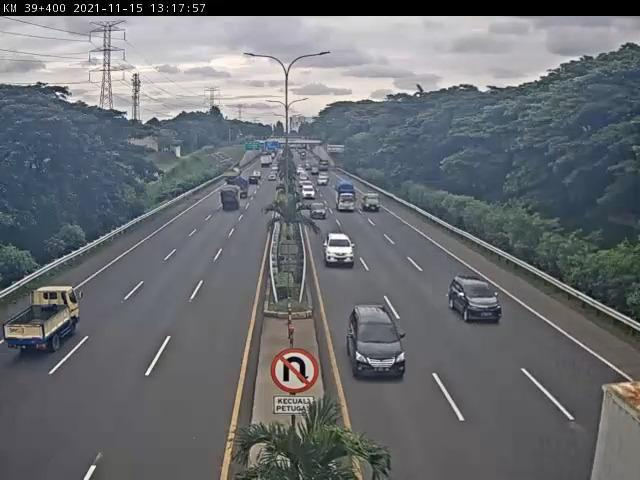car: (348, 304, 411, 380), (448, 276, 503, 327), (324, 234, 356, 269), (363, 193, 383, 214), (310, 203, 329, 221)
truck: (5, 288, 82, 351), (334, 179, 358, 215), (221, 184, 242, 211)
